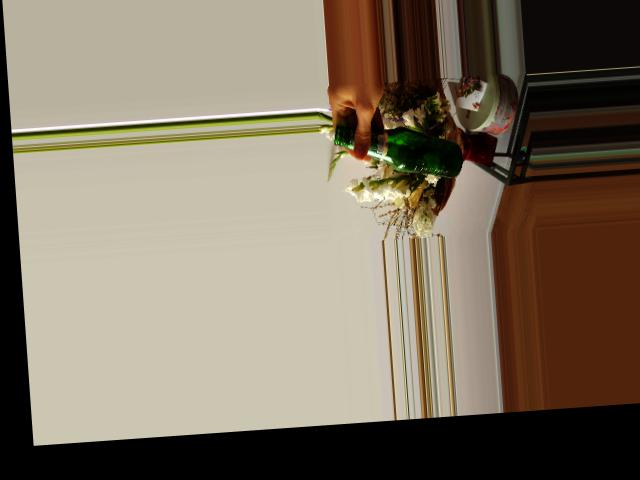beer: (334, 121, 464, 185)
